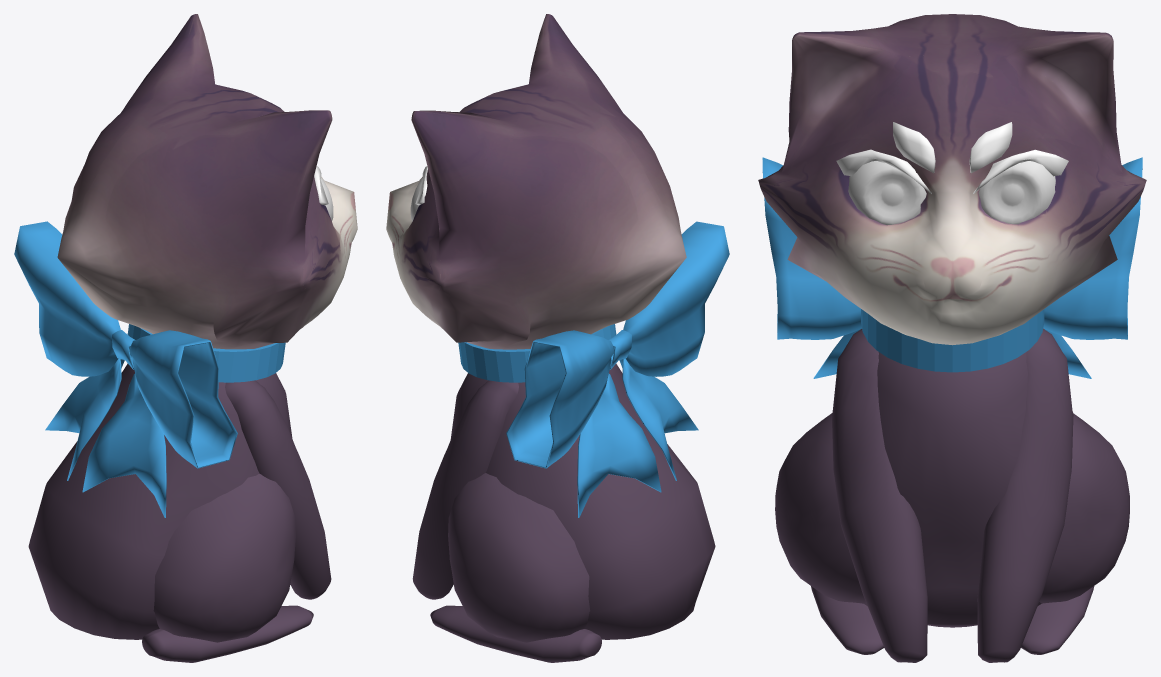
Rendered from bettercatTuxedo.fbx.
3 views of the same model, side by side, from view 1: azimuth 30°, elevation 25°; view 2: azimuth 150°, elevation 25°; view 3: azimuth 270°, elevation 25° (orthographic). The views are drawn at different scales.
Visible parts, largest first — view 1: head, body, bow; view 2: head, body, bow; view 3: body, head, bow, brows, eyeR, eyeL.
Part boxes in pixels (bbox=[...]): head: bbox=[57, 14, 357, 349]; body: bbox=[28, 363, 331, 662]; bow: bbox=[14, 221, 285, 517]; head: bbox=[386, 14, 686, 349]; body: bbox=[412, 363, 715, 662]; bow: bbox=[458, 221, 729, 517]; body: bbox=[775, 328, 1129, 662]; head: bbox=[758, 14, 1146, 345]; bow: bbox=[762, 157, 1142, 378]; brows: bbox=[836, 122, 1068, 193]; eyeR: bbox=[848, 161, 926, 225]; eyeL: bbox=[978, 161, 1055, 224].
Size of the model in its own units: 267 by 453 by 256.
Materials: 6 (1 with a texture image).
